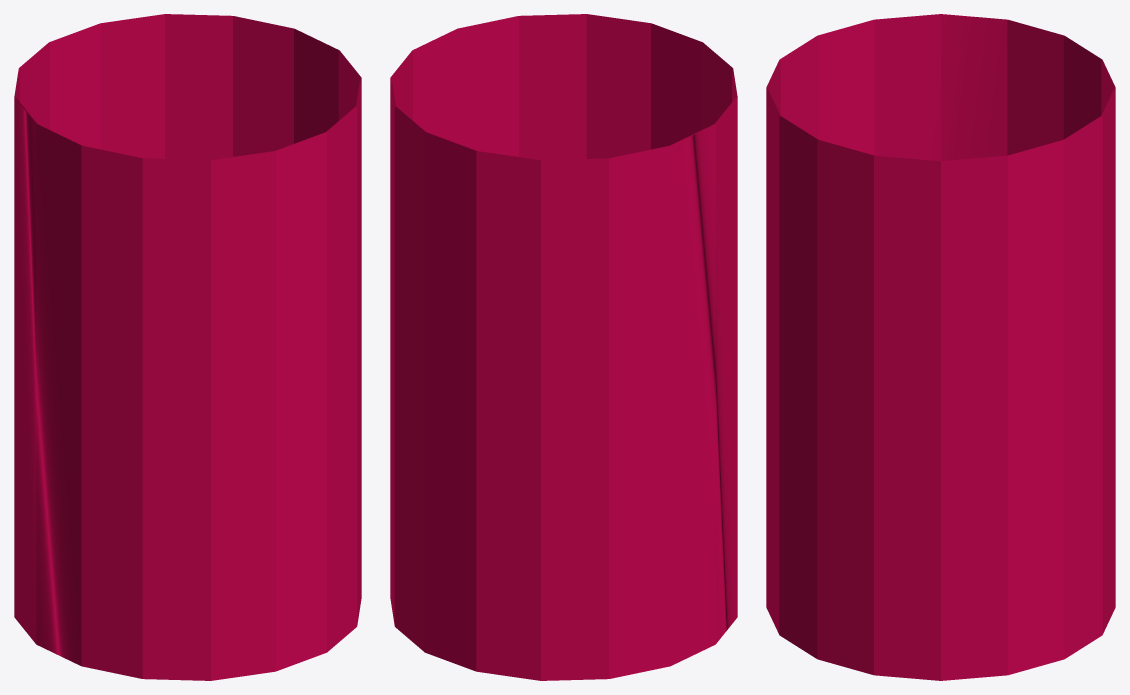
File: Brasero_01_Grid_lod0.fbx
3 renders of one model, left to right at view 1: azimuth 30°, elevation 25°; view 2: azimuth 150°, elevation 25°; view 3: azimuth 270°, elevation 25°, orthographic.
Visible parts, largest first — view 1: Brasero_01_Grid_lod0; view 2: Brasero_01_Grid_lod0; view 3: Brasero_01_Grid_lod0.
Part boxes in pixels (left/top/right/bottom): Brasero_01_Grid_lod0: left=14, top=14, right=361, bottom=680; Brasero_01_Grid_lod0: left=390, top=14, right=737, bottom=680; Brasero_01_Grid_lod0: left=766, top=14, right=1115, bottom=680.
Size of the model in its own units: 59.13 by 96.87 by 59.13.
